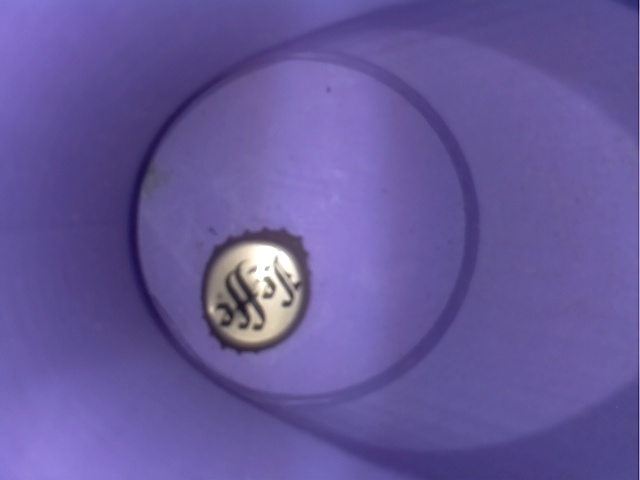capsule: (185, 218, 320, 356)
